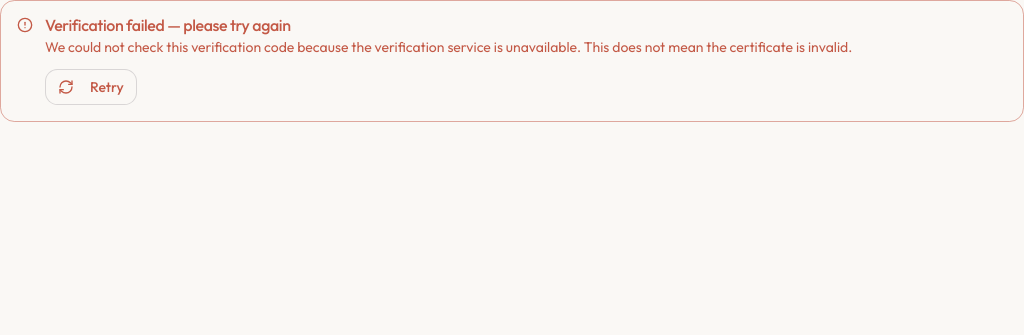
Test: CertificationSystem (verify mode) › recovers via the Retry button once the backend is healthy again
Click the button "Retry" at (91, 87), box [45,69,137,105]
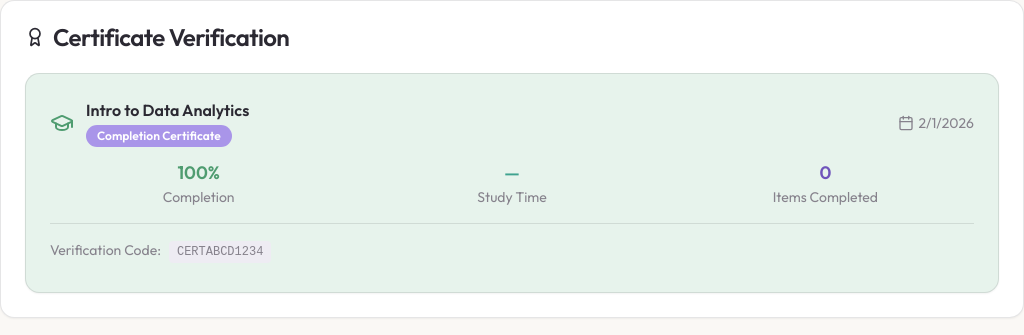
Result: the text "CERTABCD1234" is shown at [169,241,271,263]
Result: the heading "Verification failed" is gone
